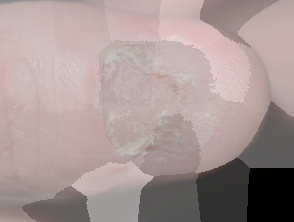Nail_psoriasis: (95, 36, 222, 172)
